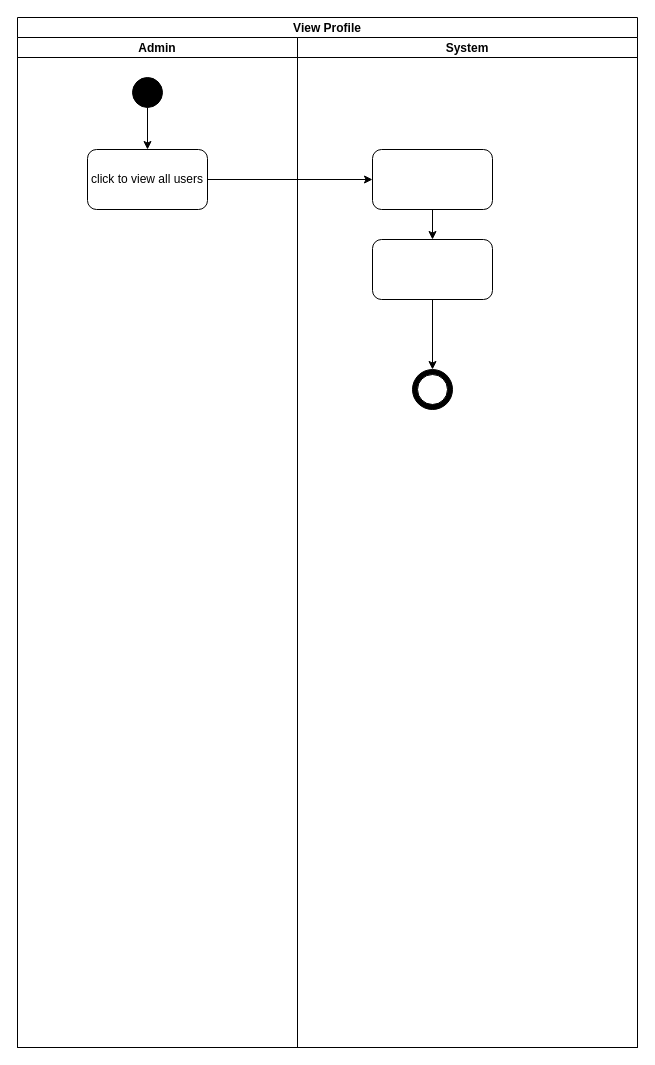
Some shapes in this 655 by 1065 pixel diagram are drawn without their labels. Here are the shapes that lost their labels. From the top down, the centre of each, then its label:
At point (432, 179): "generate the list of all users".
At point (432, 269): "display the list".
